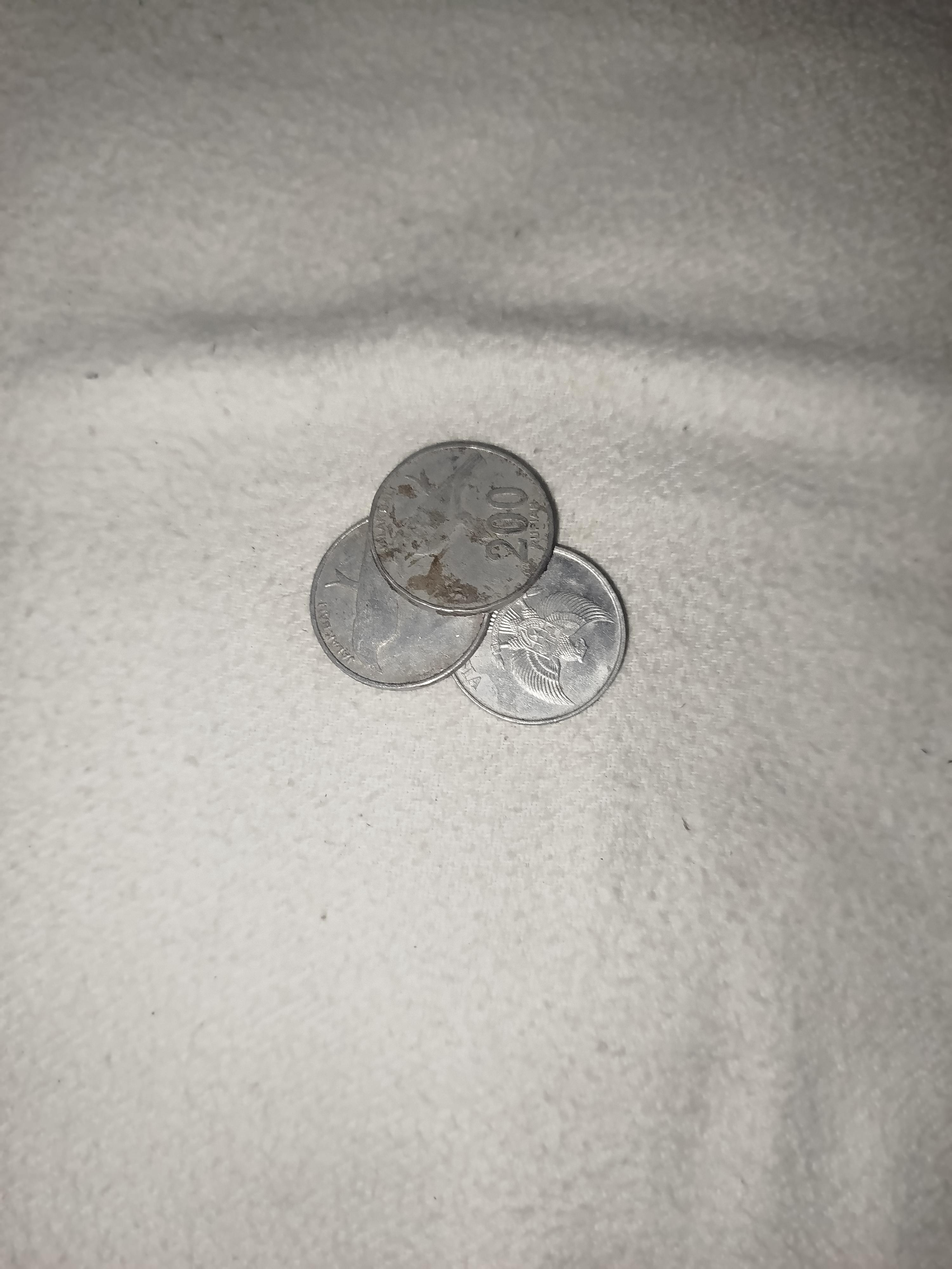coin_200_e2003: (373, 438, 561, 616), (306, 517, 490, 695), (455, 538, 628, 726)
